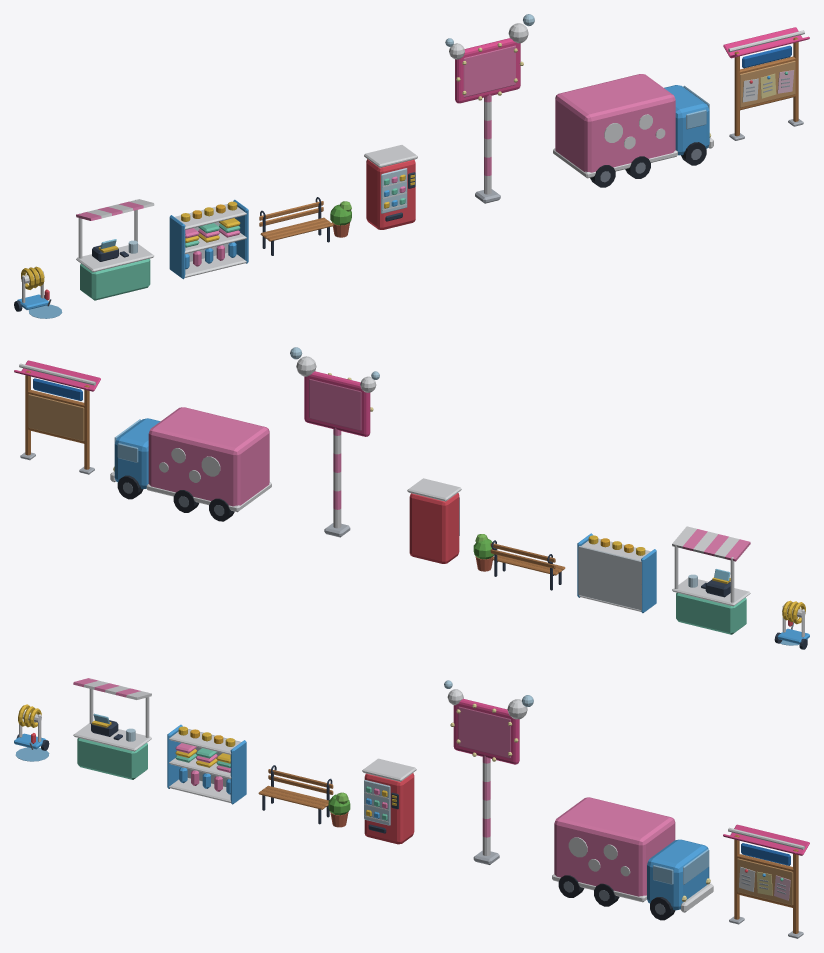
The model's file is props.glb.
3 views of the same model, one above another, from view 1: azimuth 30°, elevation 25°; view 2: azimuth 150°, elevation 25°; view 3: azimuth 330°, elevation 25° (orthographic).
Visible parts, largest first — view 1: prop_truck_mesh, prop_sign_mesh, prop_board_mesh, prop_shelf_mesh, prop_register_mesh, prop_vending_mesh, prop_bench_mesh, prop_hose_mesh; view 2: prop_truck_mesh, prop_register_mesh, prop_sign_mesh, prop_board_mesh, prop_shelf_mesh, prop_vending_mesh, prop_bench_mesh, prop_hose_mesh; view 3: prop_truck_mesh, prop_sign_mesh, prop_board_mesh, prop_shelf_mesh, prop_register_mesh, prop_vending_mesh, prop_bench_mesh, prop_hose_mesh.
Boxes of the visible parts, box(x1,y1,x2,y2) form: prop_truck_mesh: box(553, 74, 713, 187); prop_sign_mesh: box(445, 14, 534, 203); prop_board_mesh: box(723, 27, 809, 140); prop_shelf_mesh: box(169, 199, 248, 279); prop_register_mesh: box(76, 199, 154, 300); prop_vending_mesh: box(364, 145, 417, 229); prop_bench_mesh: box(259, 197, 351, 255); prop_hose_mesh: box(14, 266, 62, 318); prop_truck_mesh: box(110, 407, 271, 521); prop_register_mesh: box(672, 526, 750, 634); prop_sign_mesh: box(290, 347, 379, 537); prop_board_mesh: box(14, 360, 100, 474); prop_shelf_mesh: box(577, 533, 656, 613); prop_vending_mesh: box(407, 478, 461, 563); prop_bench_mesh: box(473, 534, 565, 590); prop_hose_mesh: box(774, 600, 809, 649); prop_truck_mesh: box(552, 797, 713, 920); prop_sign_mesh: box(444, 680, 533, 864); prop_board_mesh: box(723, 824, 809, 938); prop_shelf_mesh: box(167, 724, 246, 804); prop_register_mesh: box(73, 678, 151, 779); prop_vending_mesh: box(362, 758, 416, 844); prop_bench_mesh: box(258, 765, 350, 827); prop_hose_mesh: box(14, 704, 49, 761).
Bounding box in the file's own units: 26.74 × 5.71 × 2.12.
